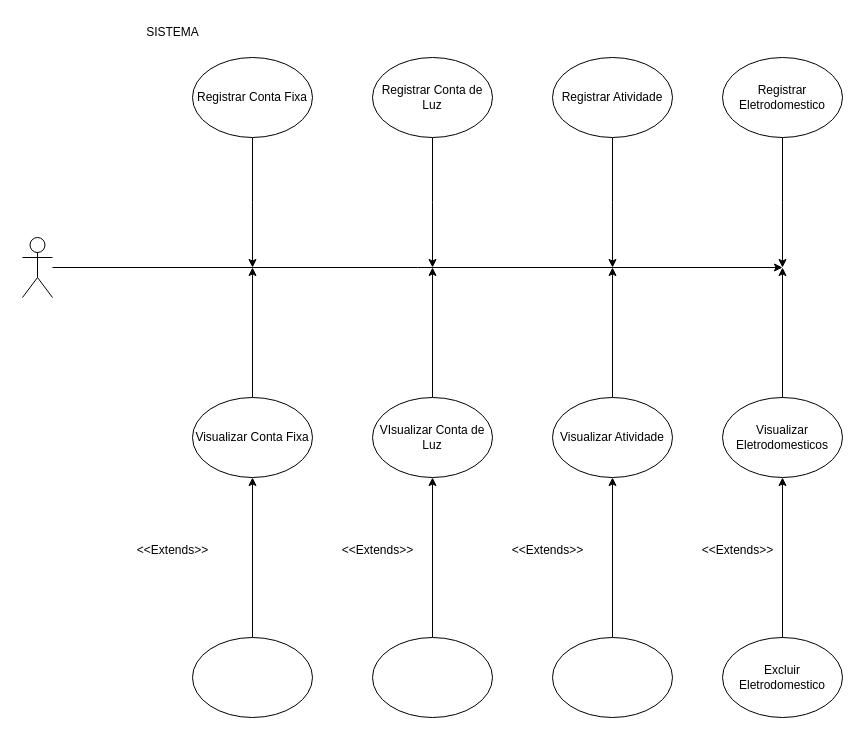
Some shapes in this 860 by 735 pixel diagram are drawn without their labels. Each missing label, with the centre of its shape:
Excluir Atividade: the point at 612,677
Excluir Conta de Luz: the point at 432,677
Excluir Conta Fixa: the point at 252,677
Usuário: the point at 37,267
